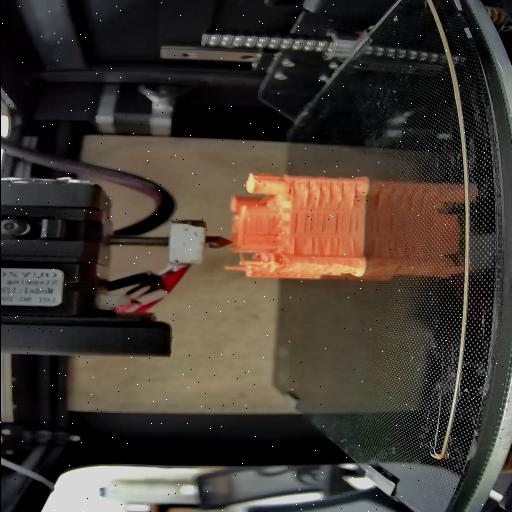cracks: (290, 213, 356, 235), (302, 184, 356, 210), (308, 237, 356, 257), (288, 236, 298, 254), (284, 188, 295, 202), (264, 214, 272, 232)
